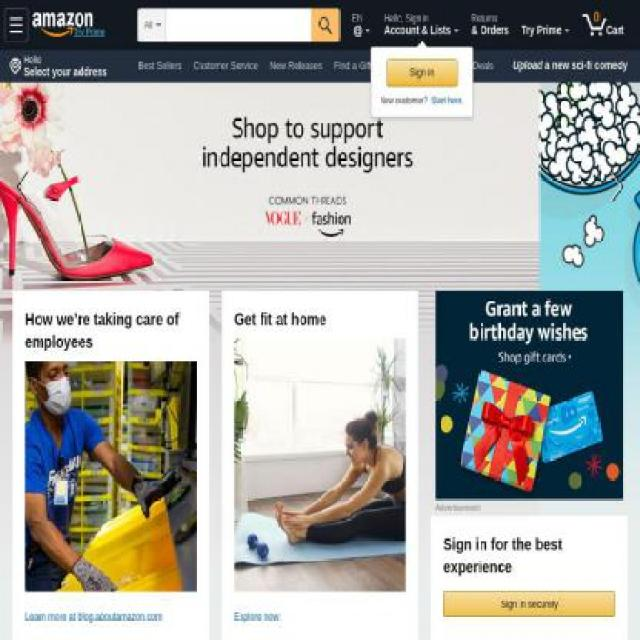button: (234, 338, 406, 592), (25, 360, 197, 592), (0, 81, 51, 292), (590, 82, 639, 292), (443, 591, 615, 617), (32, 4, 134, 45), (443, 592, 615, 616), (378, 5, 465, 47), (7, 51, 115, 83), (25, 608, 197, 624), (234, 608, 406, 624), (508, 55, 632, 77), (576, 5, 638, 47), (5, 8, 89, 38), (516, 5, 576, 47), (385, 59, 458, 87), (466, 5, 514, 47), (313, 92, 398, 113), (188, 55, 263, 77), (342, 5, 378, 47), (133, 128, 199, 150), (264, 55, 328, 77), (223, 92, 288, 113), (438, 55, 499, 77), (443, 92, 505, 113), (378, 55, 437, 77), (133, 55, 187, 77), (329, 55, 377, 77), (133, 92, 181, 113), (398, 92, 442, 113), (181, 92, 222, 113), (4, 8, 28, 41), (289, 92, 313, 113), (74, 28, 106, 37)
field: (166, 8, 311, 41), (311, 8, 338, 41)
